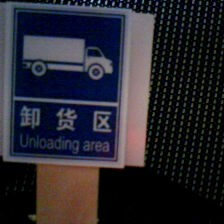unload: (2, 6, 139, 171)
